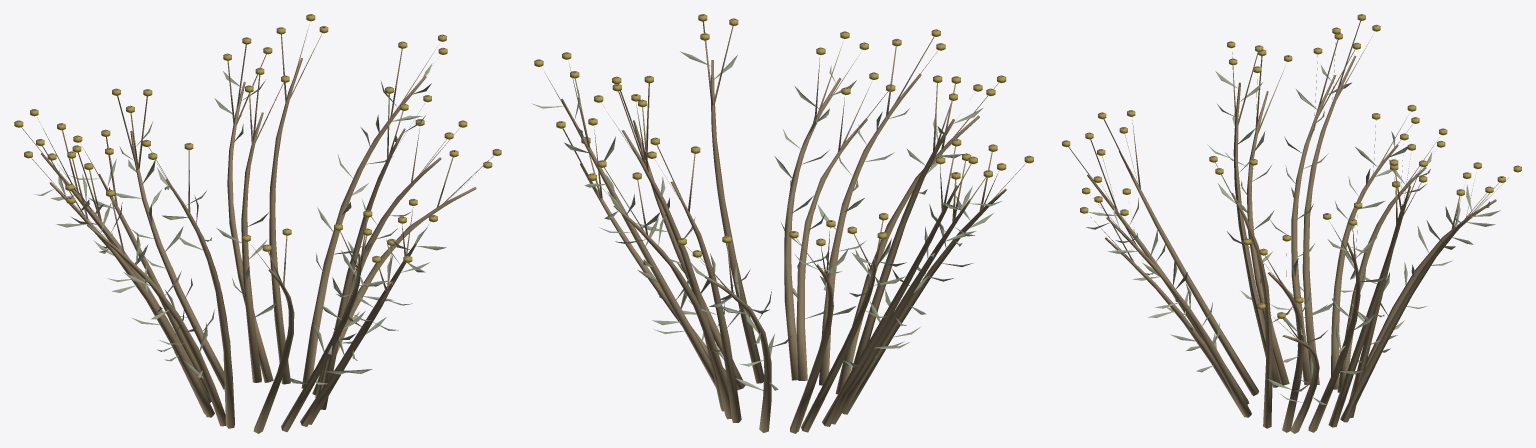
The model's file is Immortelle_0_Niveau1.fbx.
3 renders of one model, left to right at view 1: azimuth 30°, elevation 25°; view 2: azimuth 150°, elevation 25°; view 3: azimuth 270°, elevation 25°, orthographic. The views are drawn at different scales.
Visible parts, largest first — view 1: Immortelle_0_Niveau1; view 2: Immortelle_0_Niveau1; view 3: Immortelle_0_Niveau1.
Part boxes in pixels (x1,y1,x2,y2): Immortelle_0_Niveau1: (14,14,501,433); Immortelle_0_Niveau1: (531,14,1033,433); Immortelle_0_Niveau1: (1062,14,1521,433).
Bounding box in the file's own units: 40.27 × 27.37 × 38.01.
